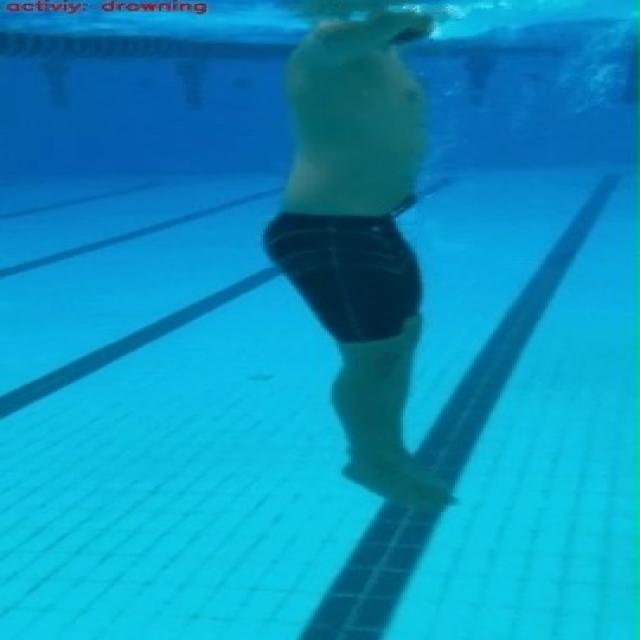Drowning: (251, 0, 476, 509)
